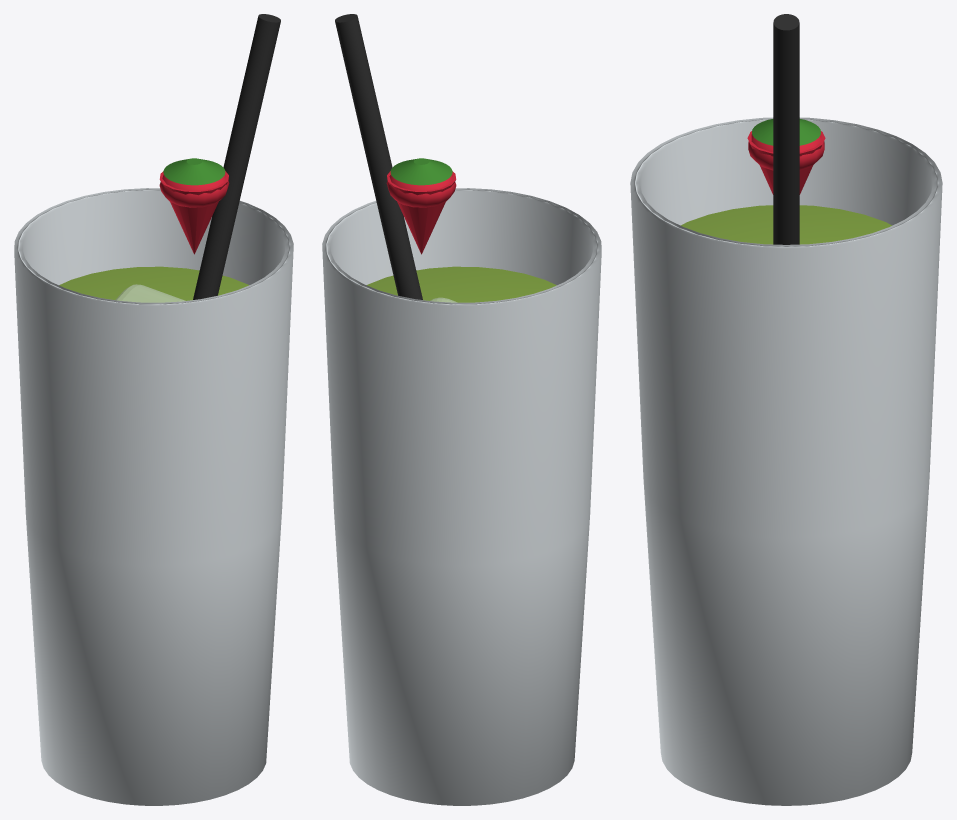
Rendered from alba-matcha-strawberry-latte.glb.
3 renders of one model, left to right at view 1: azimuth 30°, elevation 25°; view 2: azimuth 150°, elevation 25°; view 3: azimuth 270°, elevation 25°, orthographic. The views are drawn at different scales.
Size of the model in its own units: 0.0733 by 0.2027 by 0.072.
